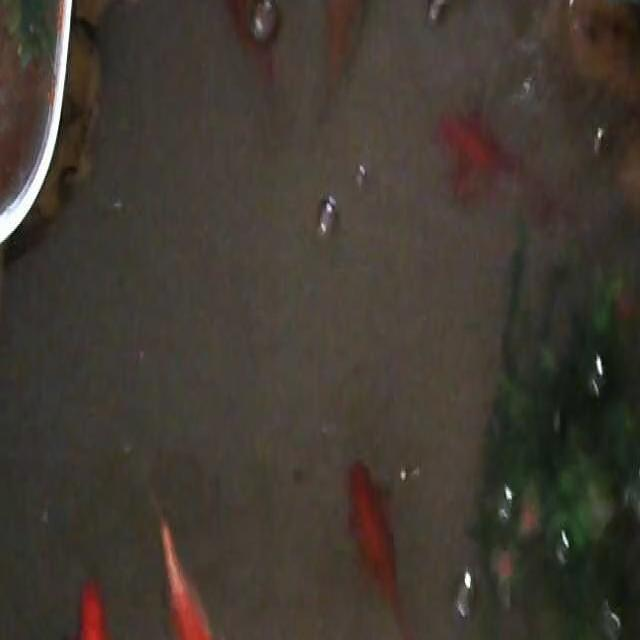fish: (434, 105, 554, 224), (344, 457, 419, 640), (154, 498, 232, 640), (213, 0, 279, 96), (320, 0, 365, 116), (72, 570, 129, 640)
